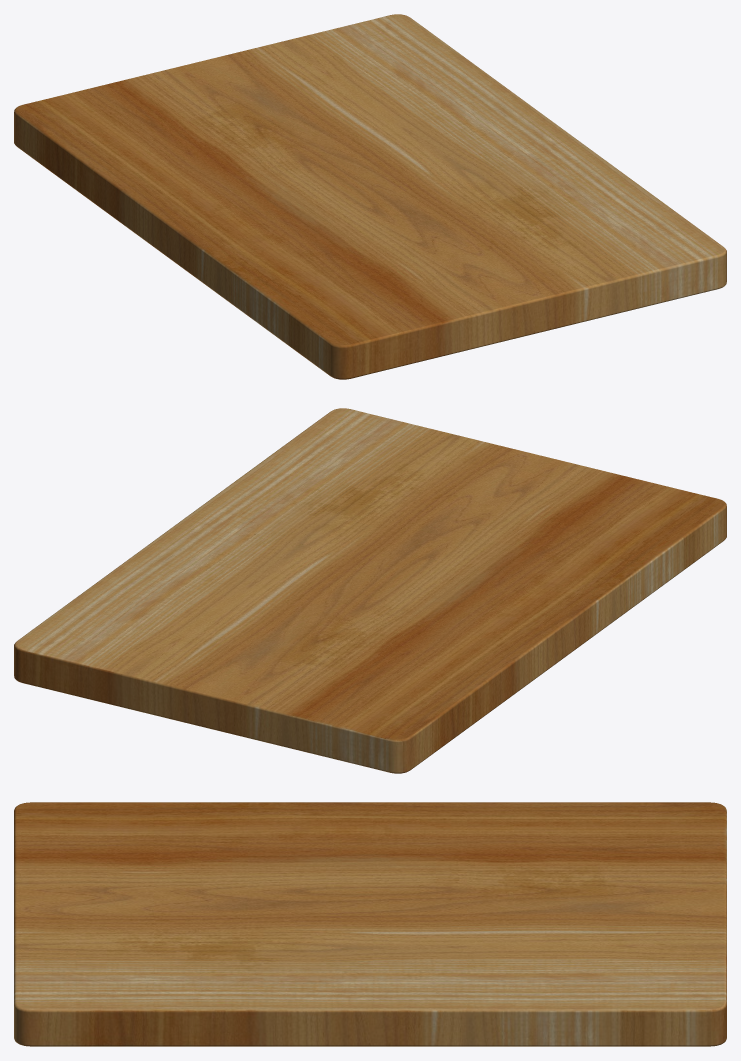
Rendered from WoodCuttingBoard.fbx.
3 views of the same model, one above another, from view 1: azimuth 30°, elevation 25°; view 2: azimuth 150°, elevation 25°; view 3: azimuth 270°, elevation 25° (orthographic). The views are drawn at different scales.
Parts seen in each view (by area): view 1: poring1:Solid2; view 2: poring1:Solid2; view 3: poring1:Solid2.
Part boxes in pixels (x1,y1,x2,y2): poring1:Solid2: (14,14,726,379); poring1:Solid2: (14,408,726,773); poring1:Solid2: (14,802,726,1046).
Bounding box in the file's own units: 9 × 0.75 × 13.
Materials: 1 (1 with a texture image).
